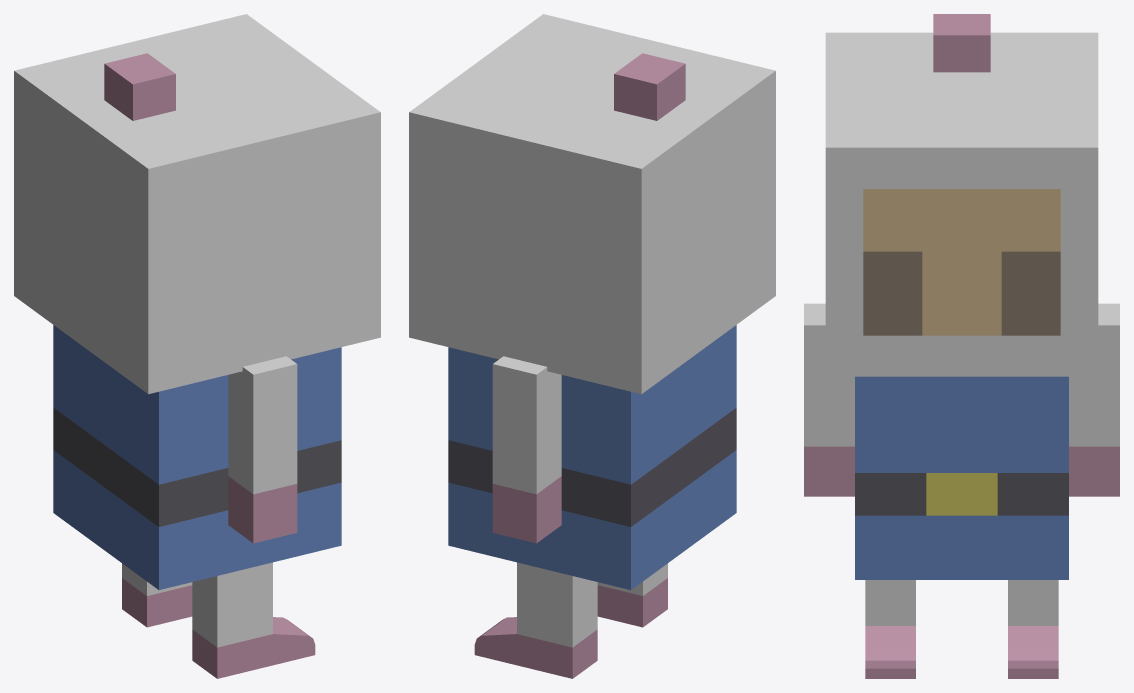
The model's file is Character.fbx.
3 renders of one model, left to right at view 1: azimuth 30°, elevation 25°; view 2: azimuth 150°, elevation 25°; view 3: azimuth 270°, elevation 25°, orthographic.
Parts seen in each view (by area): view 1: Cube.003, Cube, Cube.001, Cube.004; view 2: Cube.003, Cube, Cube.002, Cube.004; view 3: Cube.003, Cube, Cube.001, Cube.002, Cube.004.
Boxes of the visible parts, <box> form: Cube.003: <box>14,14,380,394</box>; Cube: <box>53,325,341,678</box>; Cube.001: <box>228,356,297,543</box>; Cube.004: <box>104,53,175,120</box>; Cube.003: <box>409,14,775,394</box>; Cube: <box>448,325,736,678</box>; Cube.002: <box>492,356,561,543</box>; Cube.004: <box>614,53,685,120</box>; Cube.003: <box>825,32,1098,376</box>; Cube: <box>855,376,1068,678</box>; Cube.001: <box>804,303,854,496</box>; Cube.002: <box>1069,303,1119,496</box>; Cube.004: <box>933,14,990,72</box>.
Bounding box in the file's own units: 255 × 610 × 295.
